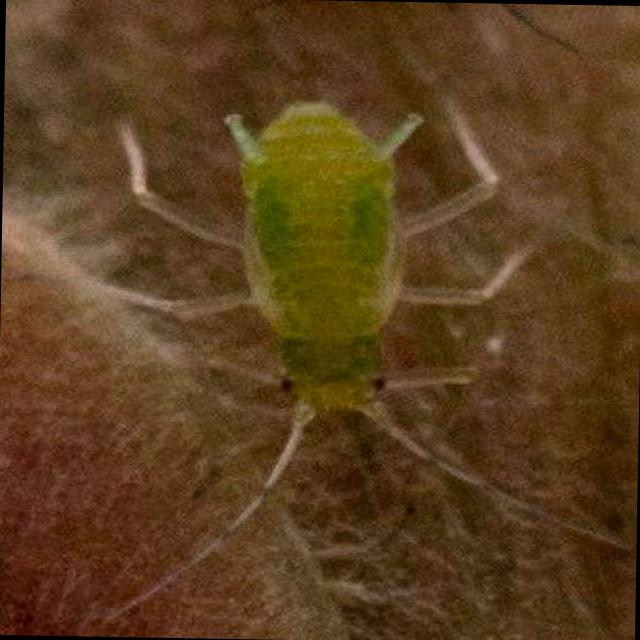aphid: (142, 96, 514, 528)
